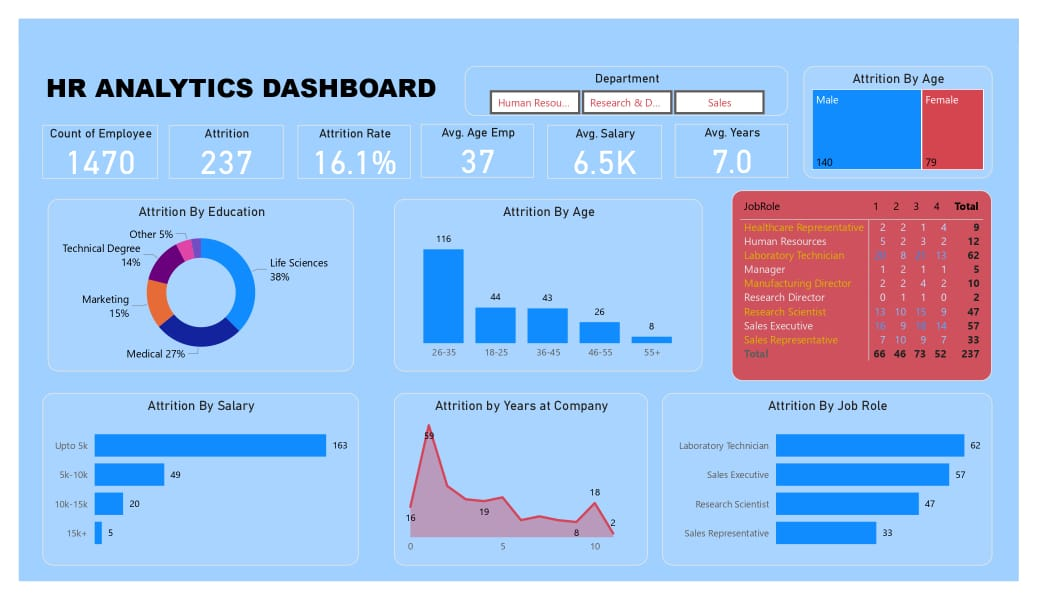

The page's visual inventory and layout, read from the dashboard file:
{"tool":"powerbi","page":{"name":"Page 1","canvas":[1280,720],"ordinal":0},"visuals":[{"type":"card","title":"Count of Employee","fields":{"Values":["CountNonNull(HR_Analytics.EmpID)"]},"box":[30.2,135.8,148.2,68.6],"z":0},{"type":"card","title":"Attrition","fields":{"Values":["Sum(HR_Analytics.AttritionCount)"]},"box":[192.1,135.8,146.8,68.6],"z":1000},{"type":"card","title":"Attrition Rate","fields":{"Values":["HR_Analytics.AttritionRate"]},"box":[356.8,135.8,145.5,68.6],"z":2000},{"type":"card","title":"Avg. Age Emp","fields":{"Values":["Avg(HR_Analytics.Age)"]},"box":[514.6,134.5,145.5,68.6],"z":3000},{"type":"card","title":"Avg. Salary","fields":{"Values":["Avg(HR_Analytics.MonthlyIncome)"]},"box":[676.5,135.8,146.8,68.6],"z":4000},{"type":"card","title":"Avg. Years","fields":{"Values":["Avg(HR_Analytics.YearsAtCompany)"]},"box":[839.8,134.5,145.5,68.6],"z":5000},{"type":"donutChart","title":"Attrition By Education","fields":{"Category":["HR_Analytics.EducationField"],"Y":["Sum(HR_Analytics.AttritionCount)"]},"box":[37,230.5,392.5,220.9],"z":6000},{"type":"columnChart","title":"Attrition By Age","fields":{"Category":["HR_Analytics.AgeGroup"],"Y":["Sum(HR_Analytics.AttritionCount)"]},"box":[480.3,230.5,395.2,220.9],"z":7000},{"type":"pivotTable","fields":{"Rows":["HR_Analytics.JobRole"],"Columns":["HR_Analytics.JobSatisfaction"],"Values":["Sum(HR_Analytics.AttritionCount)"]},"box":[912.5,219.6,333.4,244.3],"z":8000},{"type":"barChart","title":"Attrition By Salary","fields":{"Category":["HR_Analytics.SalarySlab"],"Y":["Sum(HR_Analytics.AttritionCount)"]},"box":[30.2,478.9,404.8,220.9],"z":8001},{"type":"barChart","title":"Attrition By Job Role","fields":{"Category":["HR_Analytics.JobRole"],"Y":["Sum(HR_Analytics.AttritionCount)"]},"box":[823.3,478.9,422.6,220.9],"z":8002},{"type":"areaChart","title":"Attrition by Years at Company","fields":{"Category":["HR_Analytics.YearsAtCompany"],"Y":["Sum(HR_Analytics.AttritionCount)"]},"box":[480.3,478.9,325.2,220.9],"z":8003},{"type":"treemap","title":"Attrition By Age","fields":{"Group":["HR_Analytics.Gender"],"Values":["Sum(HR_Analytics.AttritionCount)"]},"box":[1004.5,60.4,241.5,144.1],"z":8004},{"type":"slicer","title":"Department","fields":{"Values":["HR_Analytics.Department"]},"box":[570.8,60.4,414.4,64.5],"z":8005},{"type":"textbox","box":[30.2,60.4,629.8,64.5],"z":8006}]}

Visuals, with their boxes in screenshot pixels (x1, y1, x2, y2), scaled from the page's 1280x720 canvas onto the 1038x600 screenshot:
"Count of Employee" card: 24,113,145,170
"Attrition" card: 156,113,275,170
"Attrition Rate" card: 289,113,407,170
"Avg. Age Emp" card: 417,112,535,169
"Avg. Salary" card: 549,113,668,170
"Avg. Years" card: 681,112,799,169
"Attrition By Education" donutChart: 30,192,348,376
"Attrition By Age" columnChart: 389,192,710,376
pivotTable - HR_Analytics.JobRole x HR_Analytics.JobSatisfaction: 740,183,1010,387
"Attrition By Salary" barChart: 24,399,353,583
"Attrition By Job Role" barChart: 668,399,1010,583
"Attrition by Years at Company" areaChart: 389,399,653,583
"Attrition By Age" treemap: 815,50,1010,170
"Department" slicer: 463,50,799,104
textbox: 24,50,535,104
